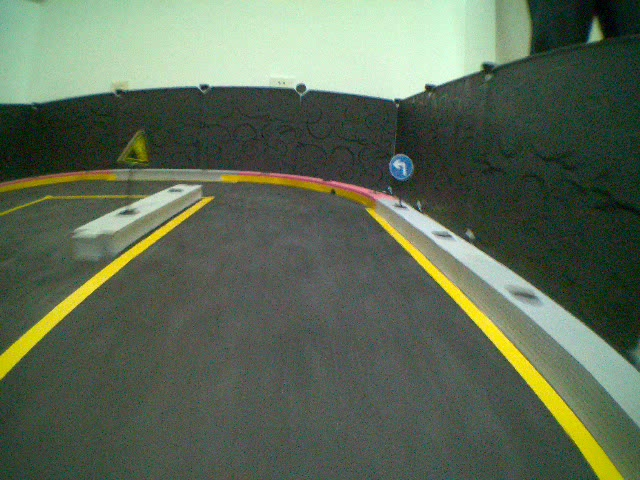fast: (115, 126, 153, 169)
turn: (387, 152, 415, 182)
